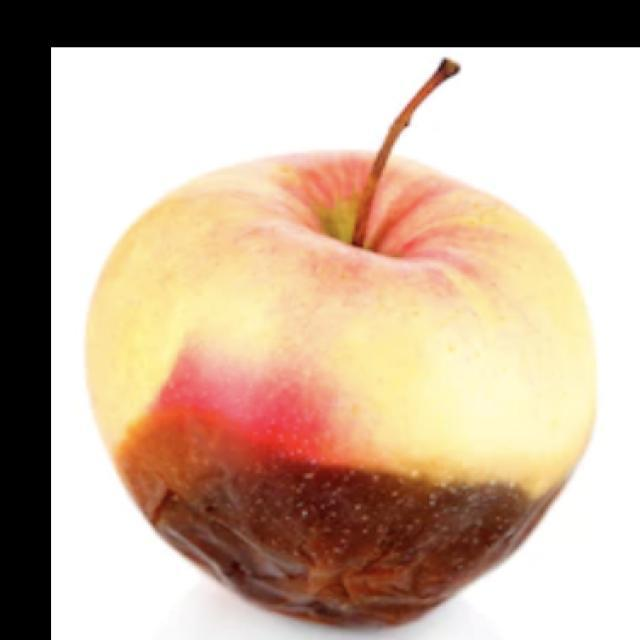Rotten: (83, 145, 597, 628)
